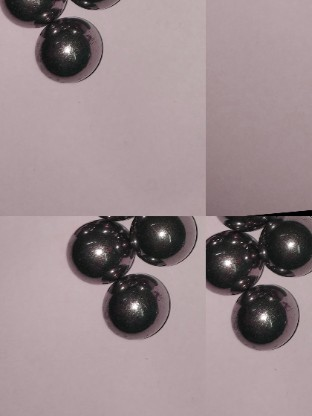ironball: (101, 269, 170, 341), (34, 16, 104, 85), (61, 221, 135, 284), (230, 281, 295, 346), (203, 233, 268, 293), (131, 212, 195, 264), (262, 219, 312, 276), (0, 0, 64, 31), (210, 215, 274, 231), (71, 0, 130, 11)
